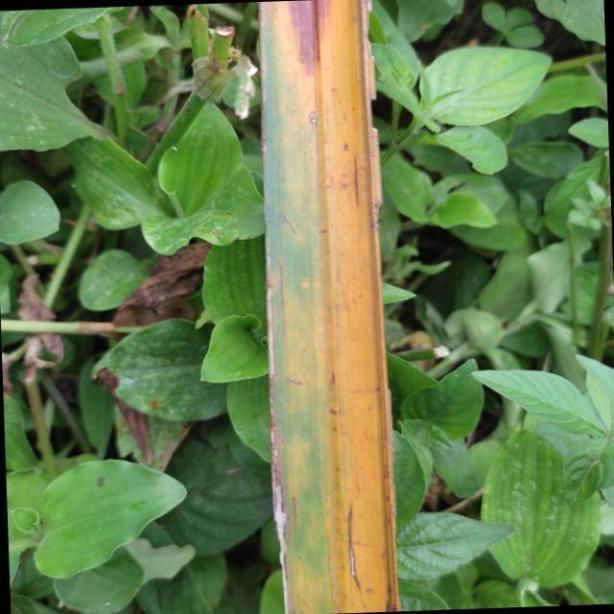Megnesium: (259, 0, 398, 614)
